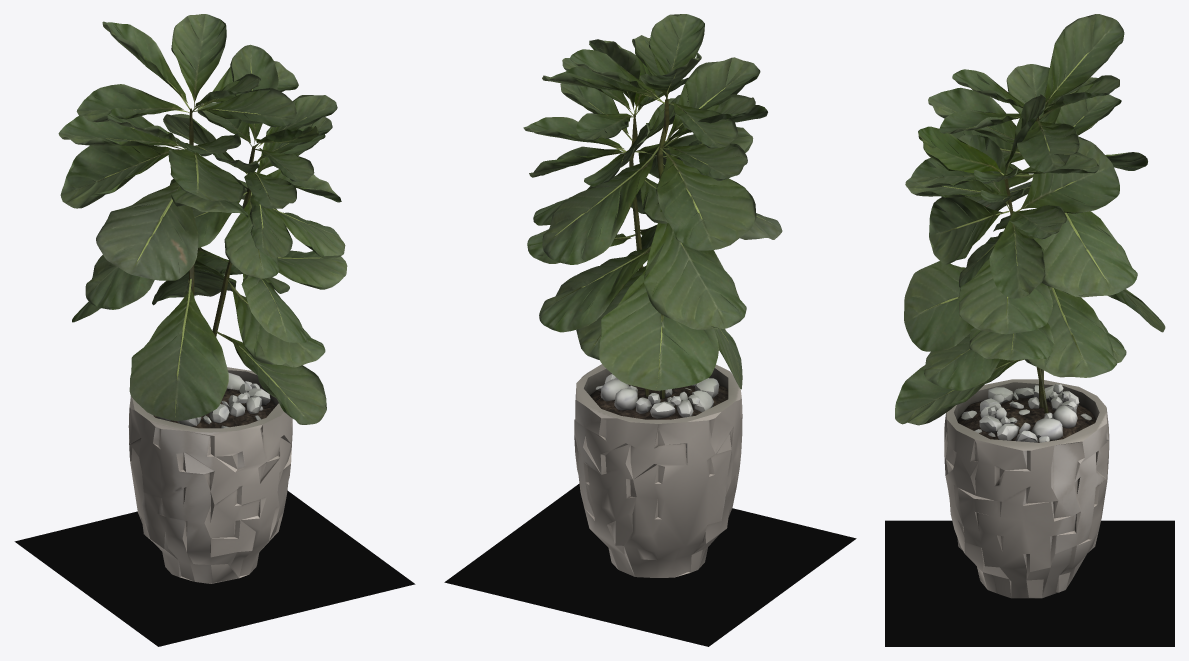
File: raw_model.obj
3 views of the same model, side by side, from view 1: azimuth 30°, elevation 25°; view 2: azimuth 150°, elevation 25°; view 3: azimuth 270°, elevation 25° (orthographic). The views are drawn at different scales.
Parts seen in each view (by area): view 1: glass_001, shadow, solid_001, glass_003, solid_002, solid_004, solid_003, solid_006, glass_002; view 2: glass_001, shadow, solid_001, solid_002, solid_004, solid_003, solid_006, glass_003; view 3: glass_001, shadow, solid_001, solid_002, glass_002, solid_003, solid_004, solid_006.
Boxes of the visible parts, x1,y1,x2,y2 form: glass_001: (58,14,347,424); shadow: (14,490,415,646); solid_001: (128,367,292,583); glass_003: (96,182,198,280); solid_002: (157,373,270,428); solid_004: (94,63,320,417); solid_003: (153,388,276,428); solid_006: (189,108,255,336); glass_002: (255,126,318,142); glass_001: (523,14,767,390); shadow: (444,484,856,646); solid_001: (574,364,742,577); solid_002: (595,374,719,418); solid_004: (542,43,765,387); solid_003: (590,384,728,419); solid_006: (629,99,669,398); glass_003: (740,213,782,239); glass_001: (895,14,1165,425); shadow: (885,520,1174,646); solid_001: (944,379,1109,598); solid_002: (961,384,1091,442); glass_002: (918,126,1001,173); solid_003: (957,398,1095,442); solid_004: (921,52,1144,407); solid_006: (1004,117,1048,413).
Size of the model in its own units: 0.9071 by 1.79 by 0.8802.
1 material, 1 textured.
